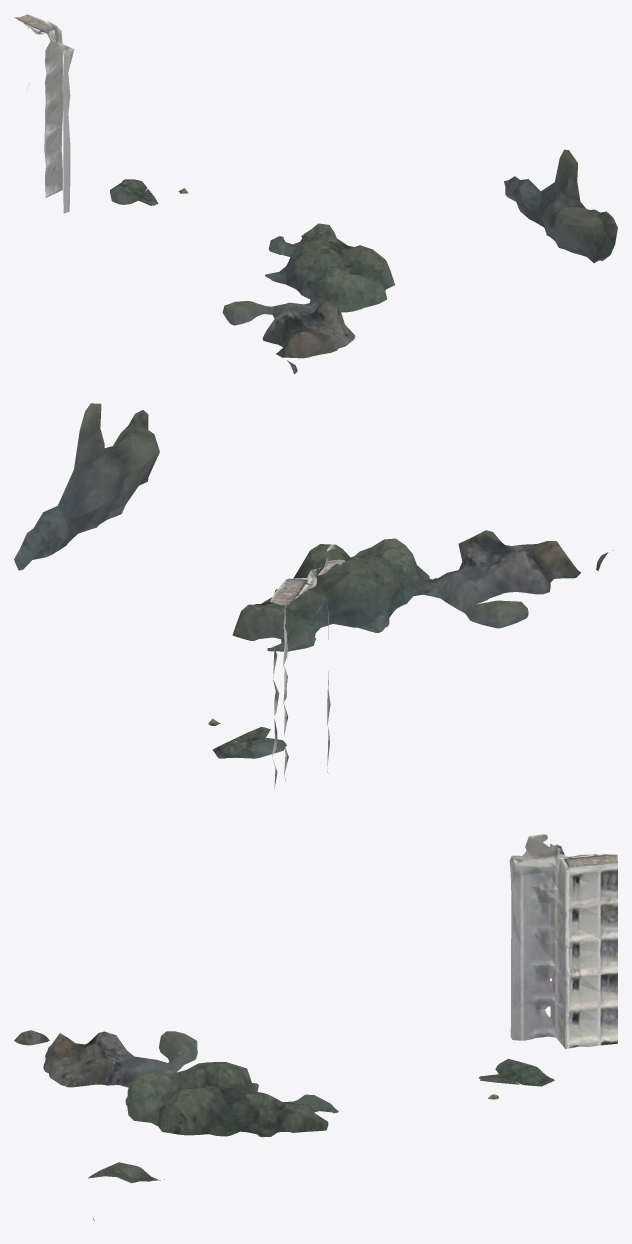
Rendered from Tile_+012_+009_L20_000003700t1.glb.
3 renders of one model, top to bottom at view 1: azimuth 30°, elevation 25°; view 2: azimuth 150°, elevation 25°; view 3: azimuth 270°, elevation 25°, orthographic. The views are drawn at different scales.
Parts seen in each view (by area): view 1: rtc; view 2: rtc; view 3: rtc.
Part boxes in pixels (x1,y1,x2,y2): rtc: (14, 14, 617, 374); rtc: (14, 403, 613, 789); rtc: (14, 834, 617, 1220).
Bounding box in the file's own units: 32.86 × 15.93 × 43.1.
Materials: 1 (1 with a texture image).
